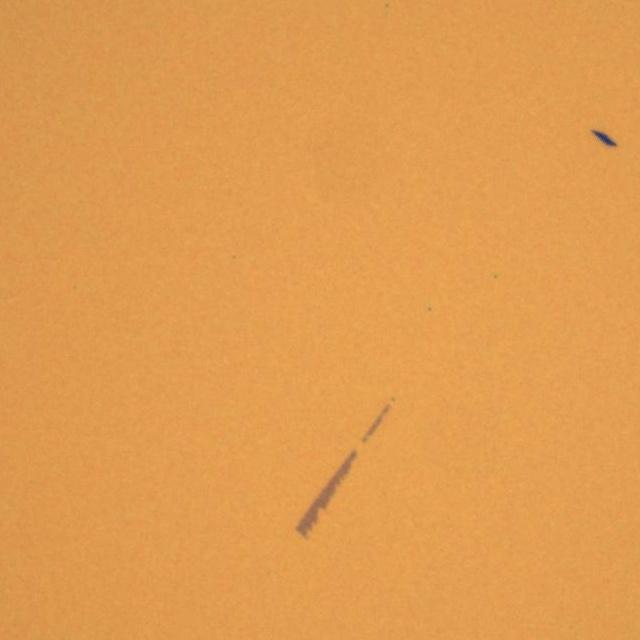monolayer-eWW4: (292, 446, 356, 544)
